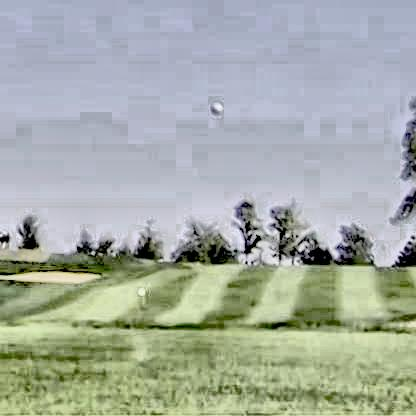golfball: (207, 100, 219, 112)
